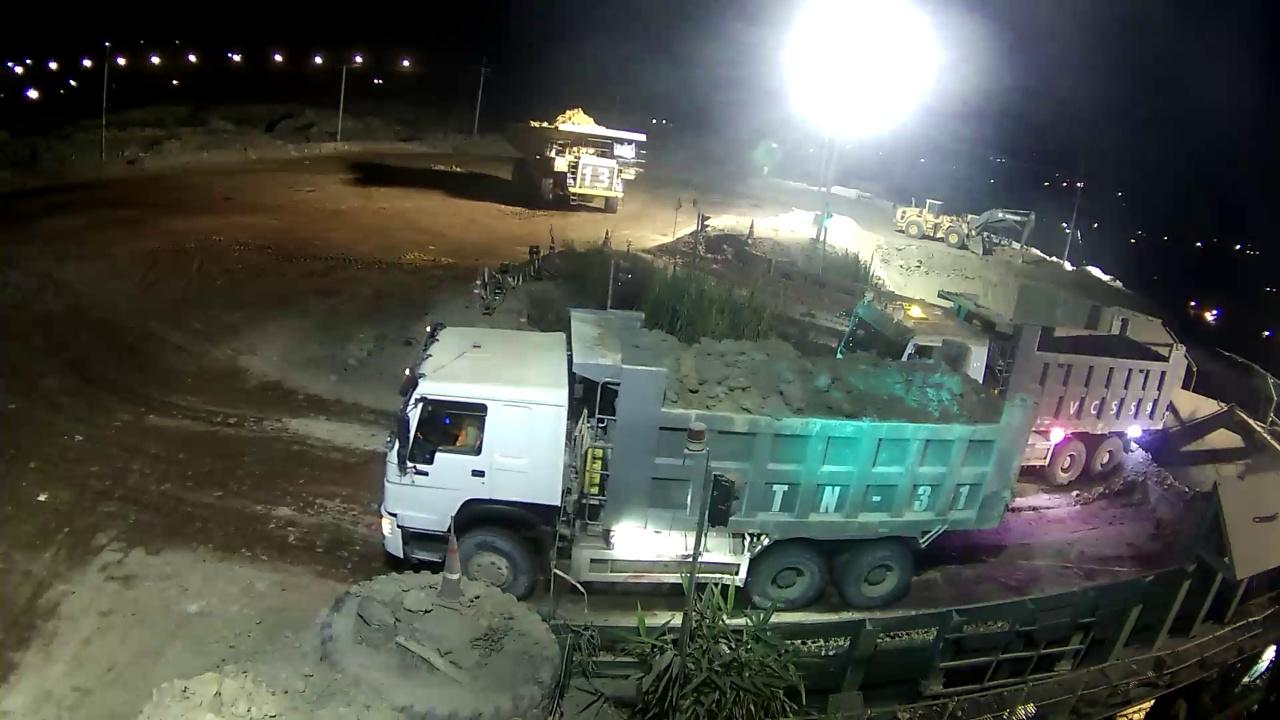front_number: (580, 164, 612, 191)
mining_truck: (503, 92, 649, 213)
